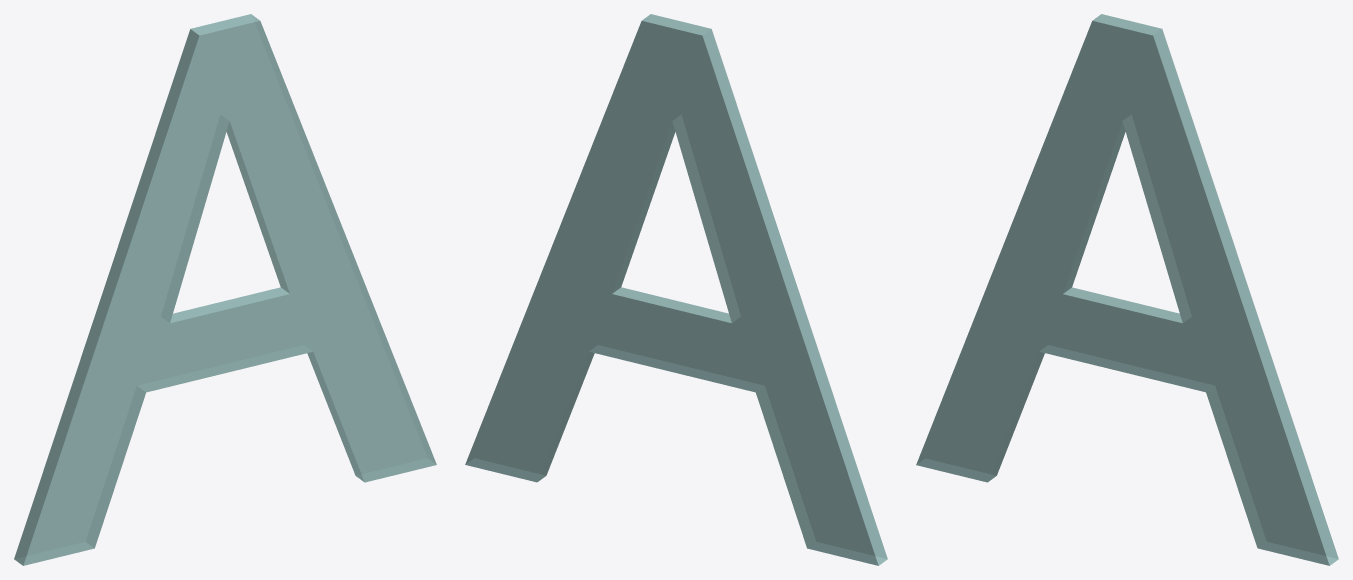
Rendered from original-14.obj.
The picture shows the model from 3 angles, left to right: view 1: azimuth 30°, elevation 25°; view 2: azimuth 150°, elevation 25°; view 3: azimuth 330°, elevation 25°; orthographic projection.
Visible parts, largest first — view 1: mesh22/mesh22-geometry#mesh22-geometry; view 2: mesh22/mesh22-geometry#mesh22-geometry; view 3: mesh22/mesh22-geometry#mesh22-geometry.
Boxes of the visible parts, x1,y1,x2,y2 form: mesh22/mesh22-geometry#mesh22-geometry: (14, 14, 436, 565); mesh22/mesh22-geometry#mesh22-geometry: (465, 14, 887, 565); mesh22/mesh22-geometry#mesh22-geometry: (916, 14, 1338, 565).
Size of the model in its own units: 0.0248 by 0.0279 by 0.000966.
